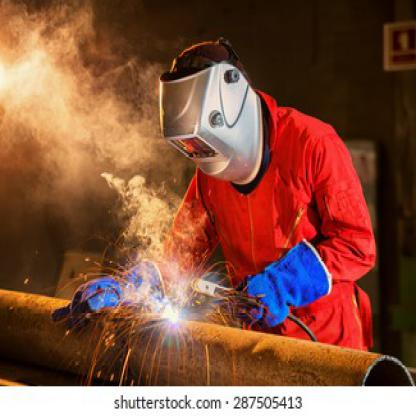with_gloves: (228, 238, 335, 327), (50, 257, 166, 334)
